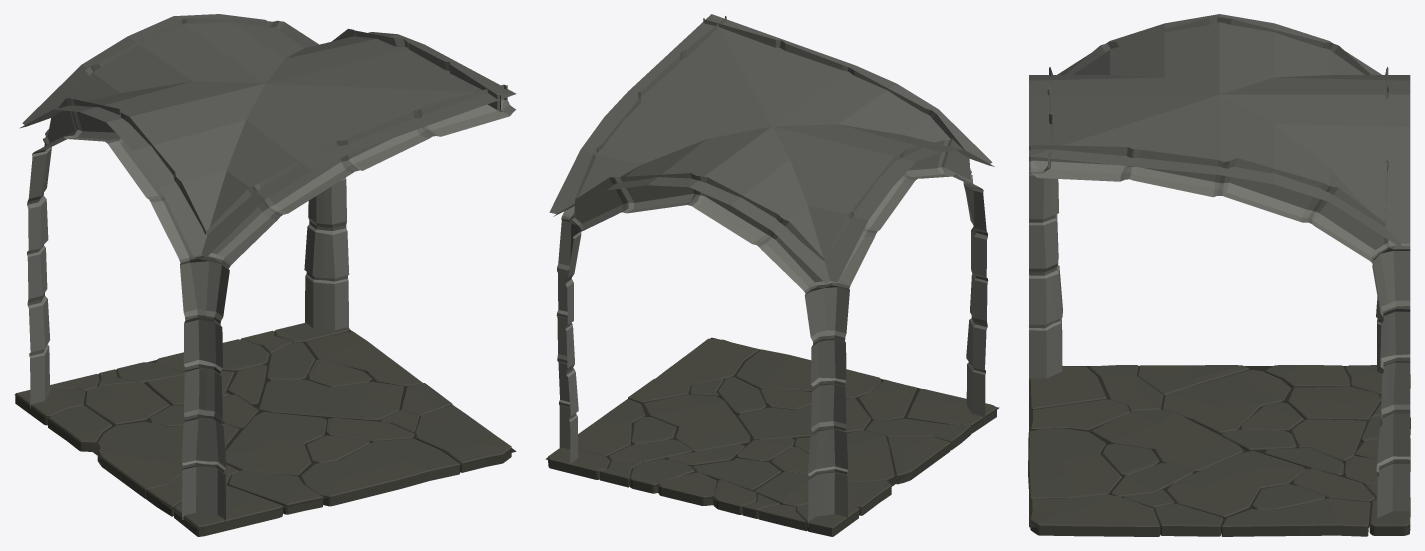
Rendered from Dungeon_Custom_Corner_Arched.glb.
3 renders of one model, left to right at view 1: azimuth 30°, elevation 25°; view 2: azimuth 150°, elevation 25°; view 3: azimuth 270°, elevation 25°, orthographic. The views are drawn at different scales.
Parts seen in each view (by area): view 1: Dungeon_Custom_Corner_Arched.001; view 2: Dungeon_Custom_Corner_Arched.001; view 3: Dungeon_Custom_Corner_Arched.001.
Boxes of the visible parts, left/top/right/bottom form: Dungeon_Custom_Corner_Arched.001: left=14, top=14, right=516, bottom=536; Dungeon_Custom_Corner_Arched.001: left=545, top=14, right=999, bottom=536; Dungeon_Custom_Corner_Arched.001: left=1028, top=14, right=1410, bottom=536.
Size of the model in its own units: 4.01 by 4.43 by 4.02.
Materials: 2 (2 with a texture image).
